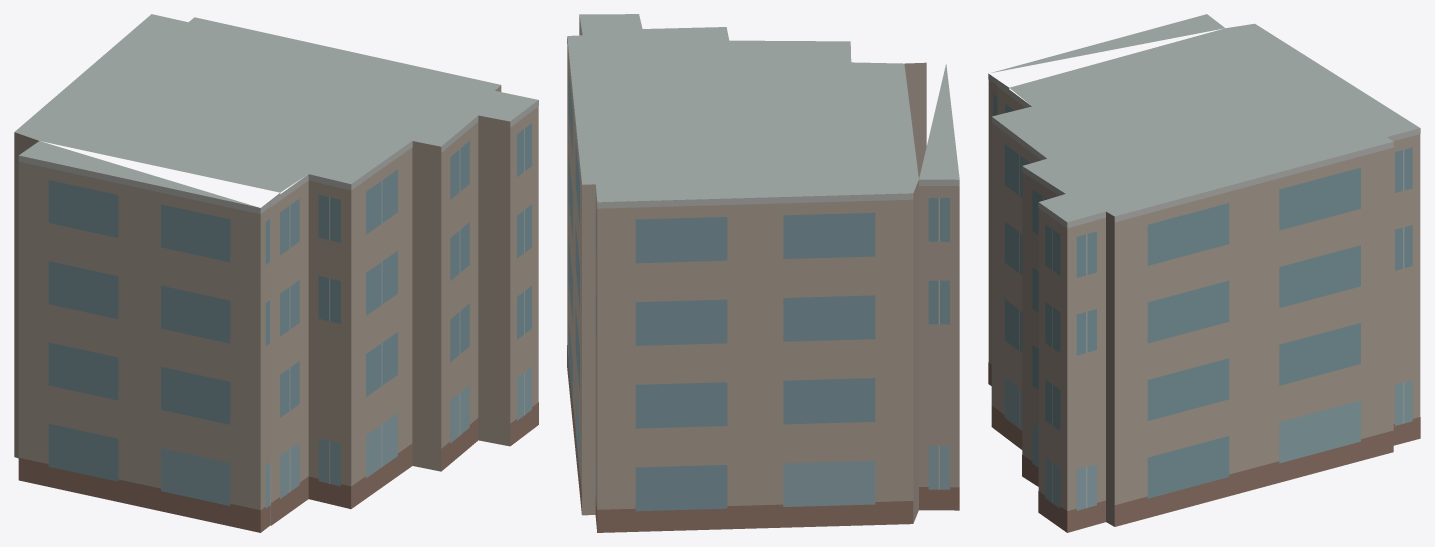
File: survey-upis-32841065.glb
3 views of the same model, side by side, from view 1: azimuth 30°, elevation 25°; view 2: azimuth 150°, elevation 25°; view 3: azimuth 270°, elevation 25° (orthographic). The views are drawn at different scales.
Visible parts, largest first — view 1: survey-upis-32841065.tmp; view 2: survey-upis-32841065.tmp; view 3: survey-upis-32841065.tmp.
Boxes of the visible parts, <box> form: survey-upis-32841065.tmp: <box>14,14,538,532</box>; survey-upis-32841065.tmp: <box>567,14,959,532</box>; survey-upis-32841065.tmp: <box>988,14,1420,532</box>.
Bounding box in the file's own units: 18.27 × 12.69 × 16.01.
